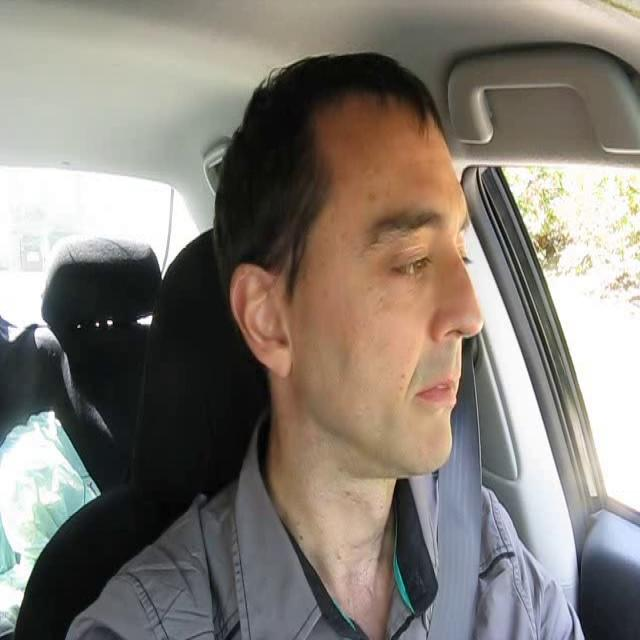close: (413, 368, 461, 413)
